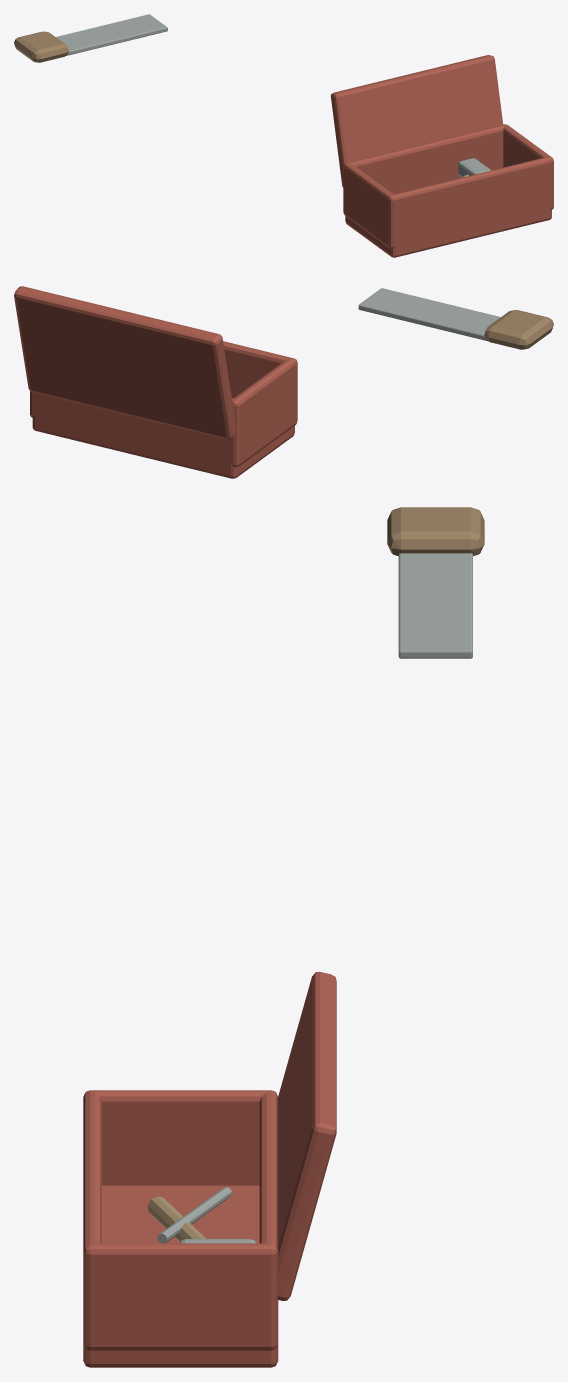
The model's file is SM_SlackerFriendsHouse_Tools.fbx.
3 renders of one model, top to bottom at view 1: azimuth 30°, elevation 25°; view 2: azimuth 150°, elevation 25°; view 3: azimuth 270°, elevation 25°, orthographic. The views are drawn at different scales.
Visible parts, largest first — view 1: EXPORT_Toolbox_OpenLid, EXPORT_Toolbox_Wall, EXPORT_Toolbox_Wall.001, EXPORT_Toolbox_Side, EXPORT_Toolbox_Base, EXPORT_Saw_Blade, EXPORT_Toolbox_Side.001, EXPORT_Saw_Handle, EXPORT_Hammer_Head; view 2: EXPORT_Toolbox_OpenLid, EXPORT_Toolbox_Side, EXPORT_Toolbox_Wall.001, EXPORT_Toolbox_Base, EXPORT_Saw_Blade, EXPORT_Saw_Handle, EXPORT_Toolbox_Wall; view 3: EXPORT_Toolbox_Side.001, EXPORT_Toolbox_Side, EXPORT_Toolbox_OpenLid, EXPORT_Toolbox_Base, EXPORT_Saw_Blade, EXPORT_Saw_Handle, EXPORT_Toolbox_Wall, EXPORT_Toolbox_Wall.001.
Part boxes in pixels (box(x1,y1,x2,y2)): EXPORT_Toolbox_OpenLid: box(330, 55, 503, 187); EXPORT_Toolbox_Wall: box(393, 157, 550, 246); EXPORT_Toolbox_Wall.001: box(348, 125, 504, 194); EXPORT_Toolbox_Side: box(343, 162, 395, 248); EXPORT_Toolbox_Base: box(345, 208, 551, 257); EXPORT_Saw_Blade: box(56, 14, 167, 55); EXPORT_Toolbox_Side.001: box(502, 124, 553, 209); EXPORT_Saw_Handle: box(14, 31, 68, 62); EXPORT_Hammer_Head: box(458, 158, 491, 176); EXPORT_Toolbox_OpenLid: box(14, 286, 235, 439); EXPORT_Toolbox_Side: box(231, 358, 297, 467); EXPORT_Toolbox_Wall.001: box(34, 392, 234, 463); EXPORT_Toolbox_Base: box(32, 415, 294, 478); EXPORT_Saw_Blade: box(358, 288, 500, 341); EXPORT_Saw_Handle: box(484, 310, 553, 349); EXPORT_Toolbox_Wall: box(223, 341, 291, 398); EXPORT_Toolbox_Side.001: box(83, 1243, 278, 1350); EXPORT_Toolbox_Side: box(83, 1090, 277, 1185); EXPORT_Toolbox_OpenLid: box(277, 971, 336, 1300); EXPORT_Toolbox_Base: box(83, 1185, 278, 1367); EXPORT_Saw_Blade: box(398, 553, 472, 658); EXPORT_Saw_Handle: box(387, 507, 484, 556); EXPORT_Toolbox_Wall: box(83, 1092, 101, 1248); EXPORT_Toolbox_Wall.001: box(259, 1092, 277, 1247).
Bounding box in the file's own units: 221 × 86.5 × 104.
